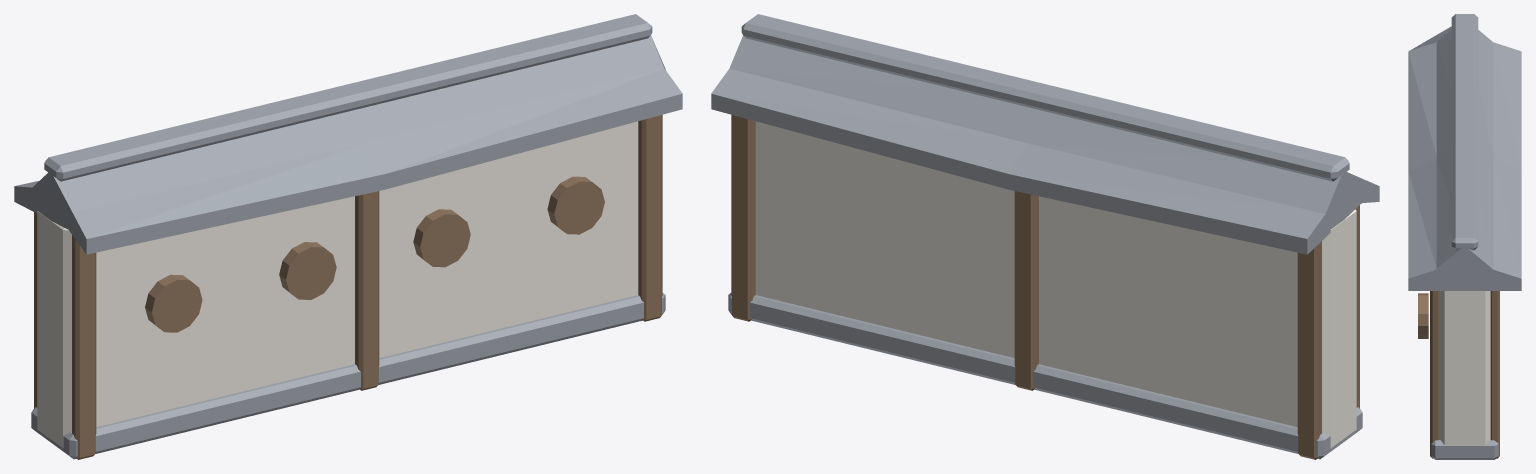
Rendered from feudal-japan-castle-town-wall-walk-gun-port-d090b05f__26582.glb.
3 renders of one model, left to right at view 1: azimuth 30°, elevation 25°; view 2: azimuth 150°, elevation 25°; view 3: azimuth 270°, elevation 25°, orthographic. The views are drawn at different scales.
Parts seen in each view (by area): view 1: wall-walk-gun-port; view 2: wall-walk-gun-port; view 3: wall-walk-gun-port.
Part boxes in pixels (left/top/right/bottom): wall-walk-gun-port: left=14, top=14, right=682, bottom=459; wall-walk-gun-port: left=711, top=14, right=1379, bottom=459; wall-walk-gun-port: left=1408, top=14, right=1521, bottom=459.
Size of the model in its own units: 4 by 1.82 by 0.8401.
